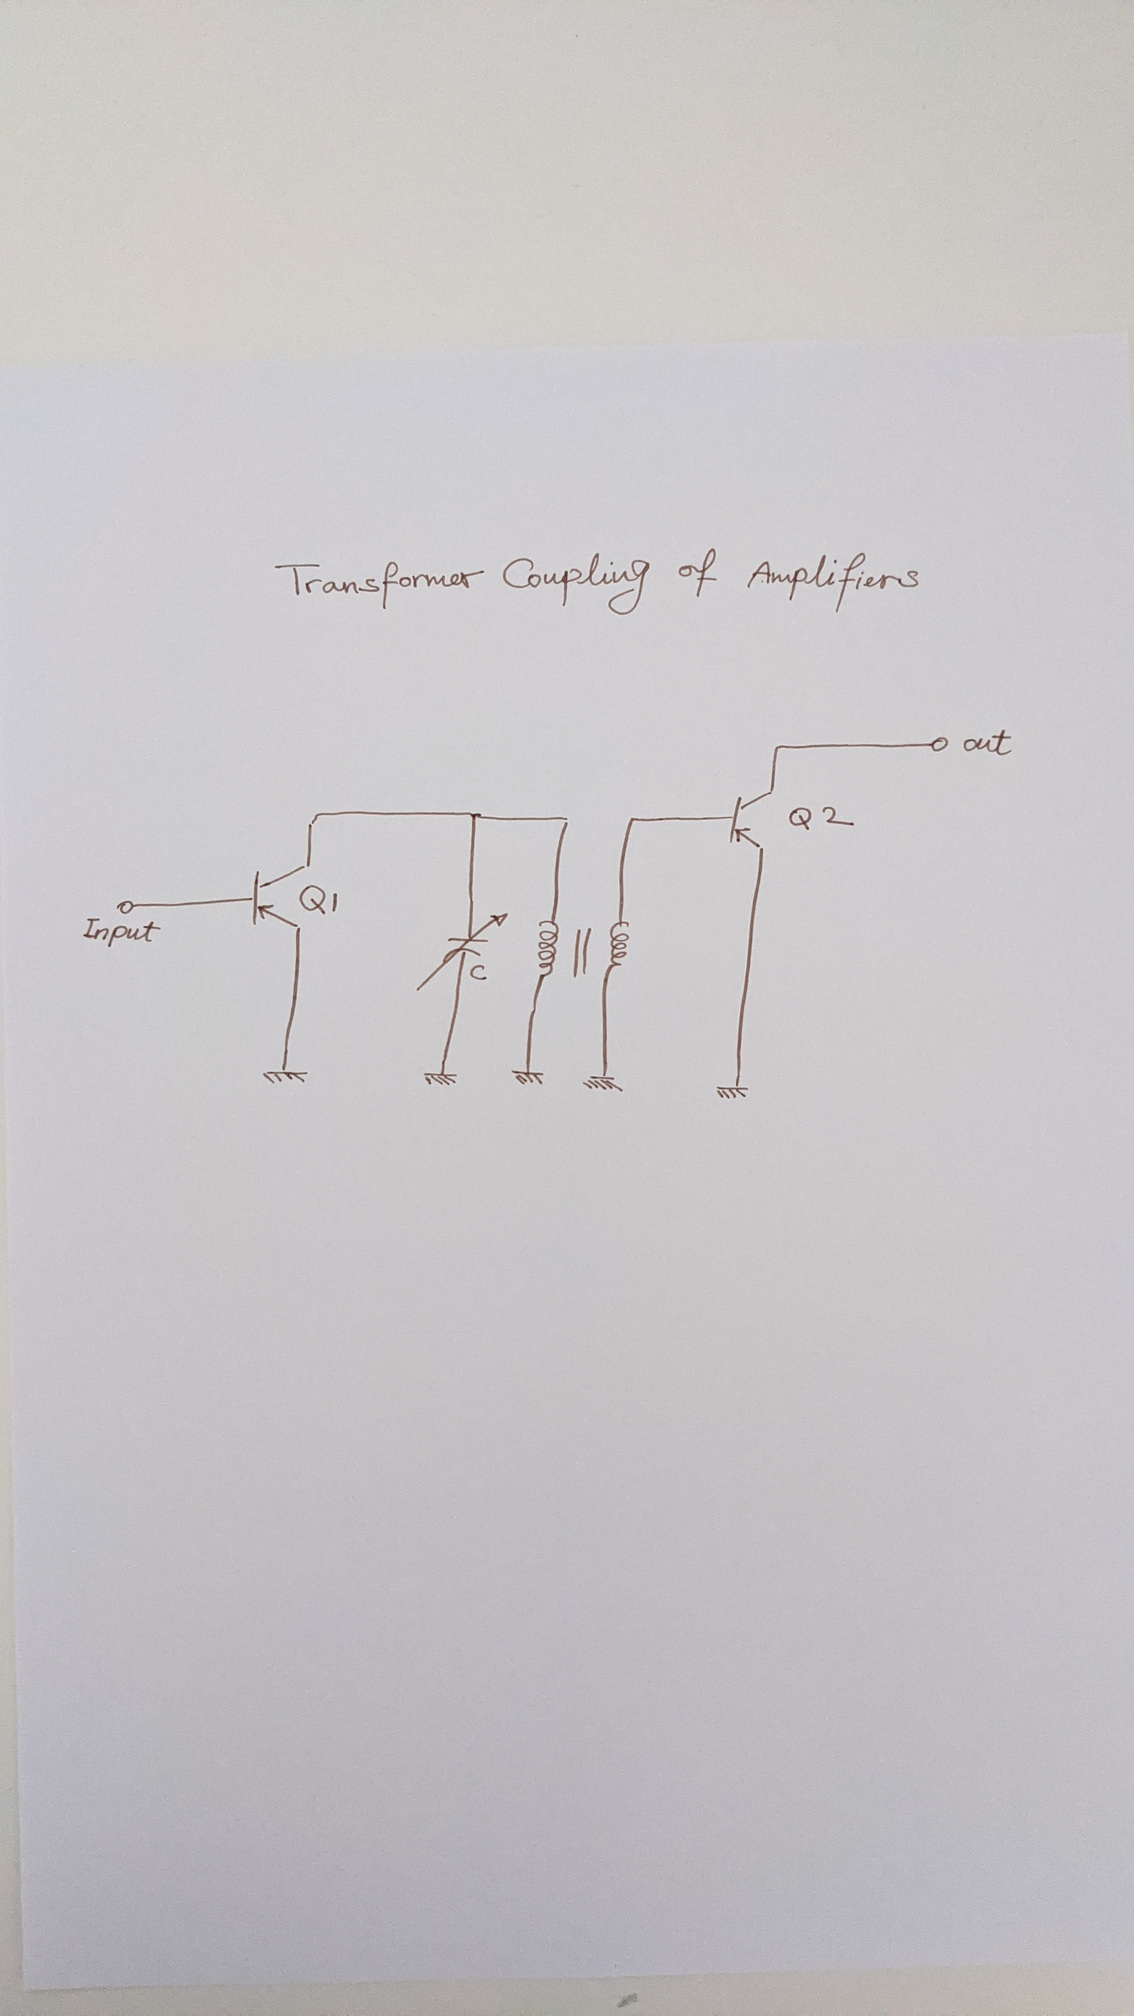capacitor.unpolarized: (414, 911, 511, 991)
gnd: (260, 1063, 312, 1088), (507, 1066, 548, 1091), (582, 1072, 627, 1094), (422, 1069, 460, 1088), (714, 1081, 752, 1099)
junction: (306, 810, 323, 829), (770, 742, 785, 757), (468, 809, 485, 822), (559, 814, 573, 828), (627, 814, 640, 828)
terminal: (928, 734, 950, 755), (115, 899, 136, 915)
text: (270, 544, 922, 618), (80, 917, 163, 948), (786, 802, 858, 834), (960, 728, 1015, 759), (296, 882, 341, 917), (468, 962, 492, 984)
transformer: (532, 915, 631, 979)
transistor: (251, 858, 313, 932), (726, 786, 778, 854)
